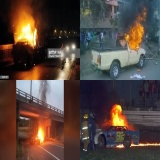fire: (125, 7, 148, 51), (13, 18, 38, 50), (109, 103, 126, 127), (116, 142, 160, 148), (37, 125, 45, 145)
